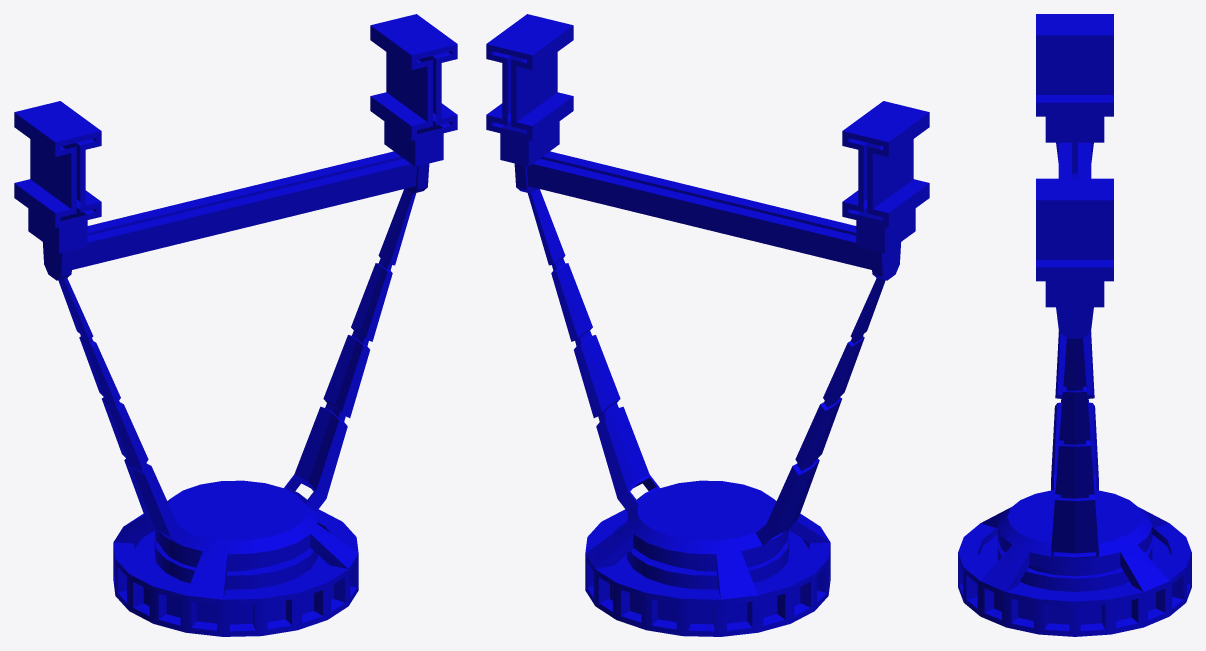
The model's file is Cargo_Container_Magnet.fbx.
The picture shows the model from 3 angles, left to right: view 1: azimuth 30°, elevation 25°; view 2: azimuth 150°, elevation 25°; view 3: azimuth 270°, elevation 25°; orthographic projection. The views are drawn at different scales.
Visible parts, largest first — view 1: Cargo_Container_Magnet; view 2: Cargo_Container_Magnet; view 3: Cargo_Container_Magnet.
Part boxes in pixels (bbox=[...]): Cargo_Container_Magnet: bbox=[14, 14, 457, 636]; Cargo_Container_Magnet: bbox=[486, 14, 929, 636]; Cargo_Container_Magnet: bbox=[958, 14, 1191, 636].
Bounding box in the file's own units: 1130 × 1360 × 600.
